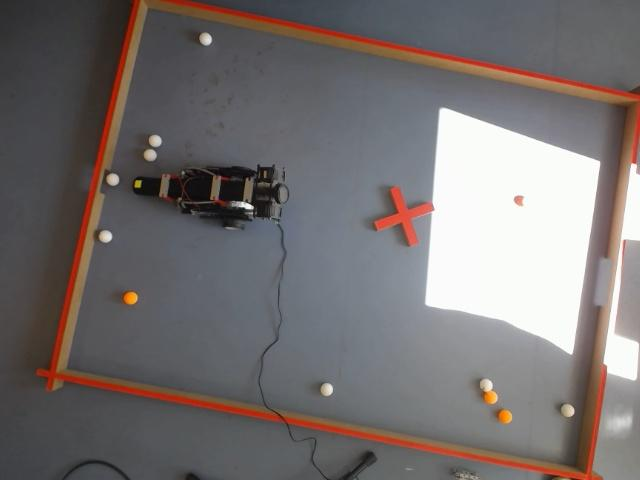orange: (120, 291, 140, 307), (498, 409, 513, 424), (483, 389, 498, 404)
robot: (132, 165, 289, 231)
robot-front: (133, 177, 158, 195)
white: (197, 31, 214, 49), (97, 229, 114, 245), (560, 403, 576, 418), (318, 382, 334, 397), (479, 378, 494, 392), (148, 134, 162, 148), (143, 149, 157, 162), (106, 173, 120, 186)
